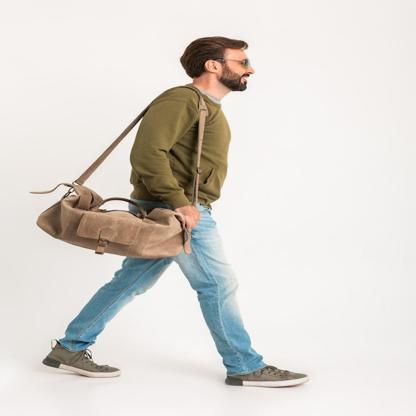person: (26, 32, 322, 390)
